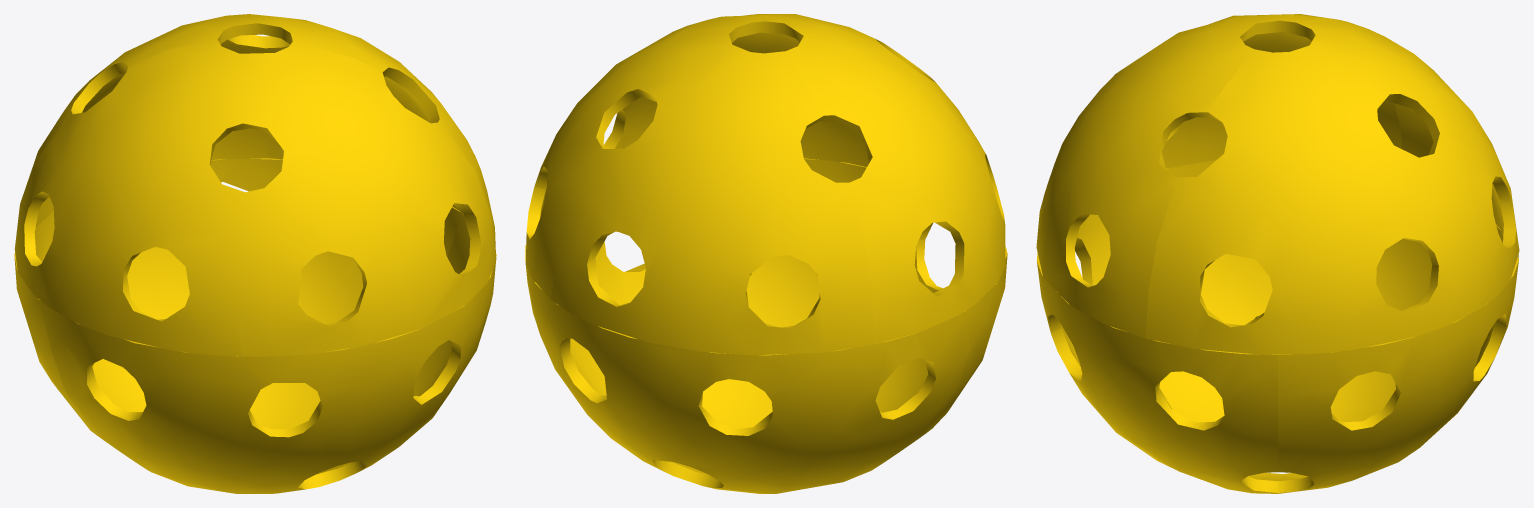
Rendered from am-5851-pollen.glb.
3 renders of one model, left to right at view 1: azimuth 30°, elevation 25°; view 2: azimuth 150°, elevation 25°; view 3: azimuth 270°, elevation 25°, orthographic.
Size of the model in its own units: 0.0711 by 0.0702 by 0.0711.
